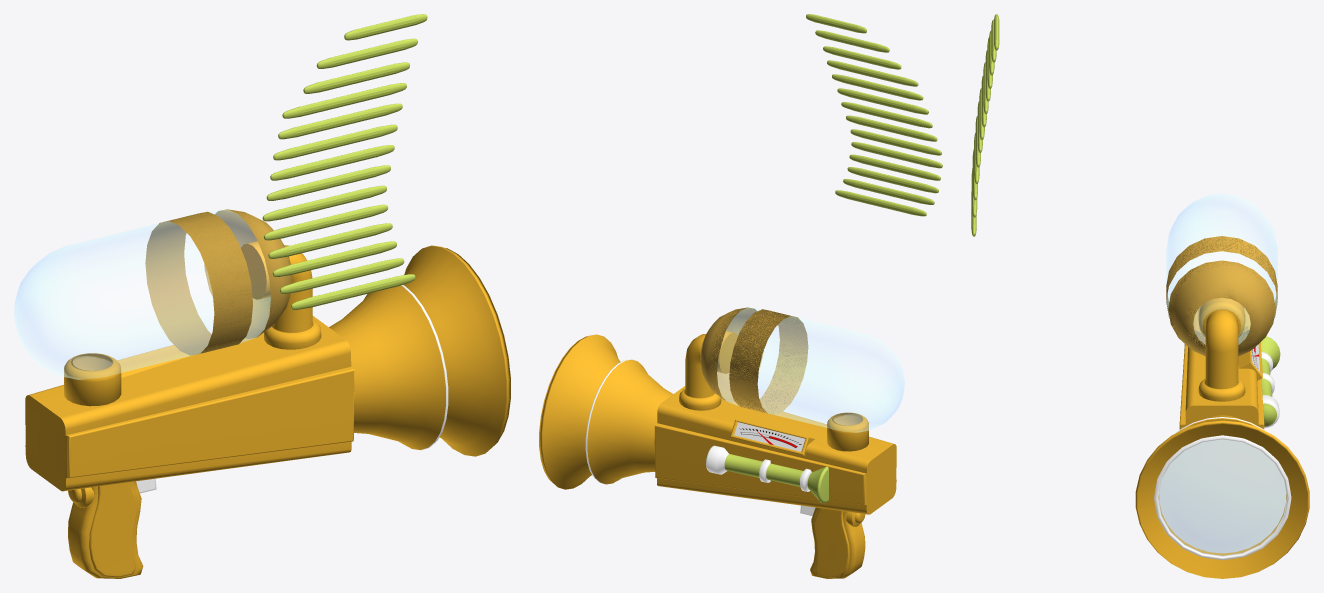
Rendered from MongGun.glb.
The picture shows the model from 3 angles, left to right: view 1: azimuth 30°, elevation 25°; view 2: azimuth 150°, elevation 25°; view 3: azimuth 270°, elevation 25°; orthographic projection. The views are drawn at different scales.
Parts seen in each view (by area): view 1: MainFrame_BlueM_0, Fart_Tank, pCylinder1, pCylinder3, MainGrip, Farttube1, Farttube, pCylinder30, pCylinder29, pCylinder33, pCylinder37, pCylinder32 (+11 smaller); view 2: Fart_Tank, MainFrame_BlueM_0, pCylinder1, pCylinder3, MainGrip, side_Tube, Farttube, FartMeter, Farttube1, pCylinder38, pCylinder33, pCylinder28 (+11 smaller); view 3: Fart_Tank, pSphere1, pCylinder3, MainFrame_BlueM_0, Farttube, side_Tube, FartLidFront_BlueM_0.001, FartMeter.
Part boxes in pixels (box(x1,y1,x2,y2)): MainFrame_BlueM_0: box(25, 316, 354, 491); Fart_Tank: box(14, 209, 292, 379); pCylinder1: box(329, 285, 448, 450); pCylinder3: box(403, 245, 510, 456); MainGrip: box(68, 481, 143, 578); Farttube1: box(64, 353, 121, 406); Farttube: box(264, 245, 321, 349); pCylinder30: box(273, 124, 397, 160); pCylinder29: box(278, 103, 402, 139); pCylinder33: box(262, 185, 386, 221); pCylinder37: box(279, 258, 404, 293); pCylinder32: box(266, 165, 390, 200); Fart_Tank: box(700, 307, 904, 432); MainFrame_BlueM_0: box(654, 386, 896, 514); pCylinder1: box(585, 359, 673, 484); pCylinder3: box(539, 334, 620, 489); MainGrip: box(810, 507, 865, 578); side_Tube: box(705, 445, 828, 503); Farttube: box(679, 334, 721, 410); FartMeter: box(730, 419, 814, 455); Farttube1: box(827, 412, 868, 451); pCylinder38: box(835, 190, 926, 216); pCylinder33: box(850, 129, 941, 155); pCylinder28: box(827, 60, 918, 86); Fart_Tank: box(1166, 193, 1277, 356); pSphere1: box(1154, 435, 1291, 560); pCylinder3: box(1135, 420, 1309, 578); MainFrame_BlueM_0: box(1179, 308, 1264, 429); Farttube: box(1198, 310, 1245, 401); side_Tube: box(1260, 336, 1280, 427); FartLidFront_BlueM_0.001: box(1198, 297, 1245, 337); FartMeter: box(1238, 325, 1262, 380).
Size of the model in its own units: 2.62 by 3.6 by 2.19.
Materials: 6 (1 with a texture image).
